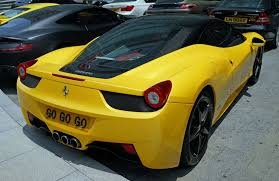benign: (41, 105, 87, 129)
